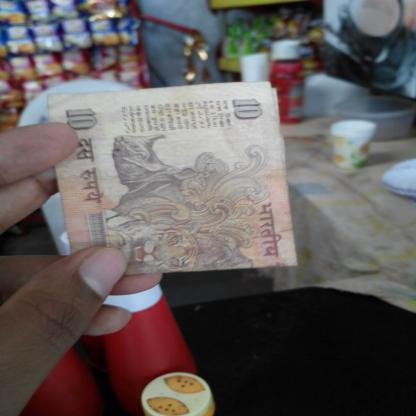Old10Back: (46, 81, 300, 275)
